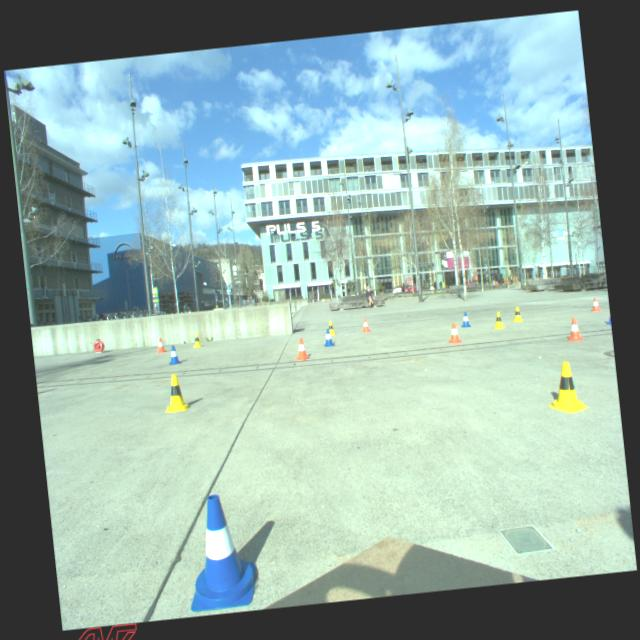blue_cone: (178, 490, 260, 612), (168, 344, 182, 365), (322, 328, 336, 347), (459, 312, 471, 328)
orange_cone: (292, 336, 312, 361), (565, 317, 583, 341), (446, 321, 462, 344), (154, 337, 166, 353), (590, 296, 602, 312), (360, 318, 370, 332)
yellow_cone: (544, 359, 589, 415), (162, 373, 190, 413), (491, 310, 506, 330), (511, 306, 523, 322), (326, 320, 336, 336), (192, 333, 202, 347)
